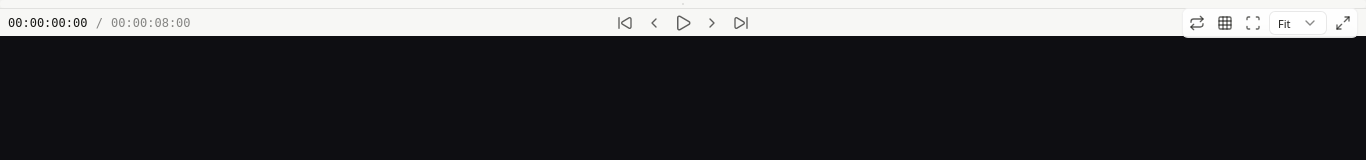
Test: program monitor › renders an image clip as <img>, not <video> (the no-freeze fix)
# The playhead still advances over the still image (no freeze).
Step 1. Click the button named "step forward one frame" → point(712, 22), box [700,10,724,34]
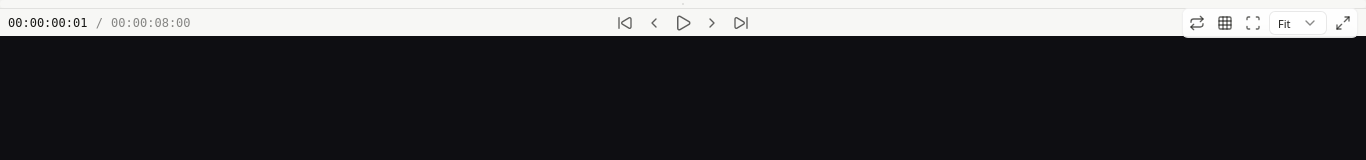
Result: the text named "current time" reads "00:00:00:01" at [8,16,88,30]
